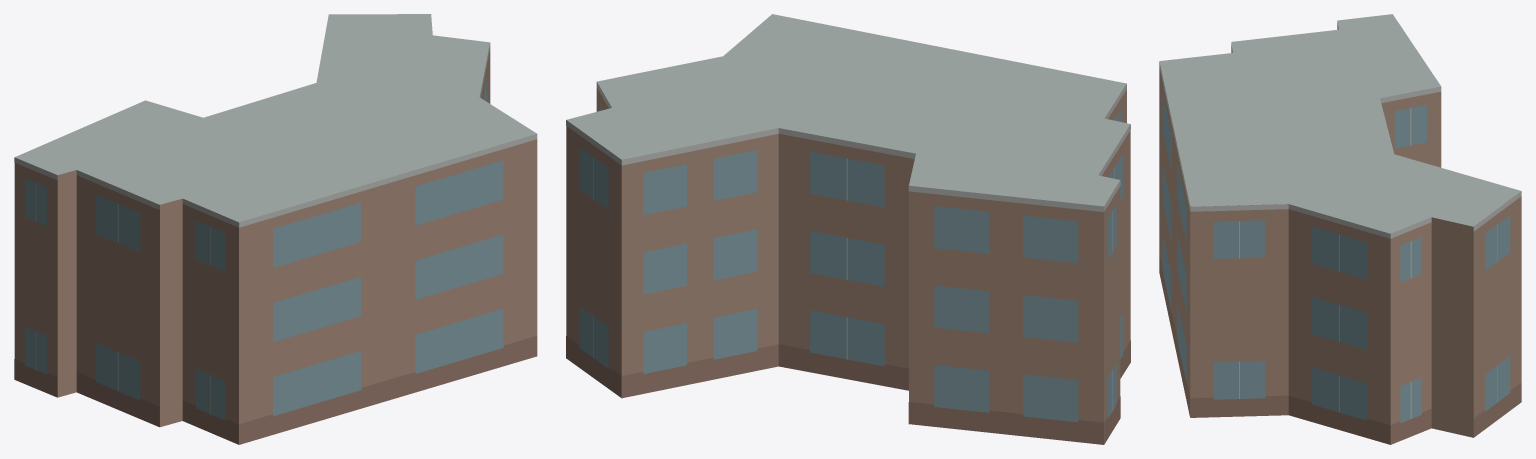
The model's file is survey-upis-32711026.glb.
3 views of the same model, side by side, from view 1: azimuth 30°, elevation 25°; view 2: azimuth 150°, elevation 25°; view 3: azimuth 270°, elevation 25° (orthographic). The views are drawn at different scales.
Parts seen in each view (by area): view 1: survey-upis-32711026.tmp; view 2: survey-upis-32711026.tmp; view 3: survey-upis-32711026.tmp.
Part boxes in pixels (x1,y1,x2,y2): survey-upis-32711026.tmp: (14,14,537,444); survey-upis-32711026.tmp: (566,14,1130,444); survey-upis-32711026.tmp: (1159,14,1521,444).
Size of the model in its own units: 22.8 by 10.21 by 15.89.
